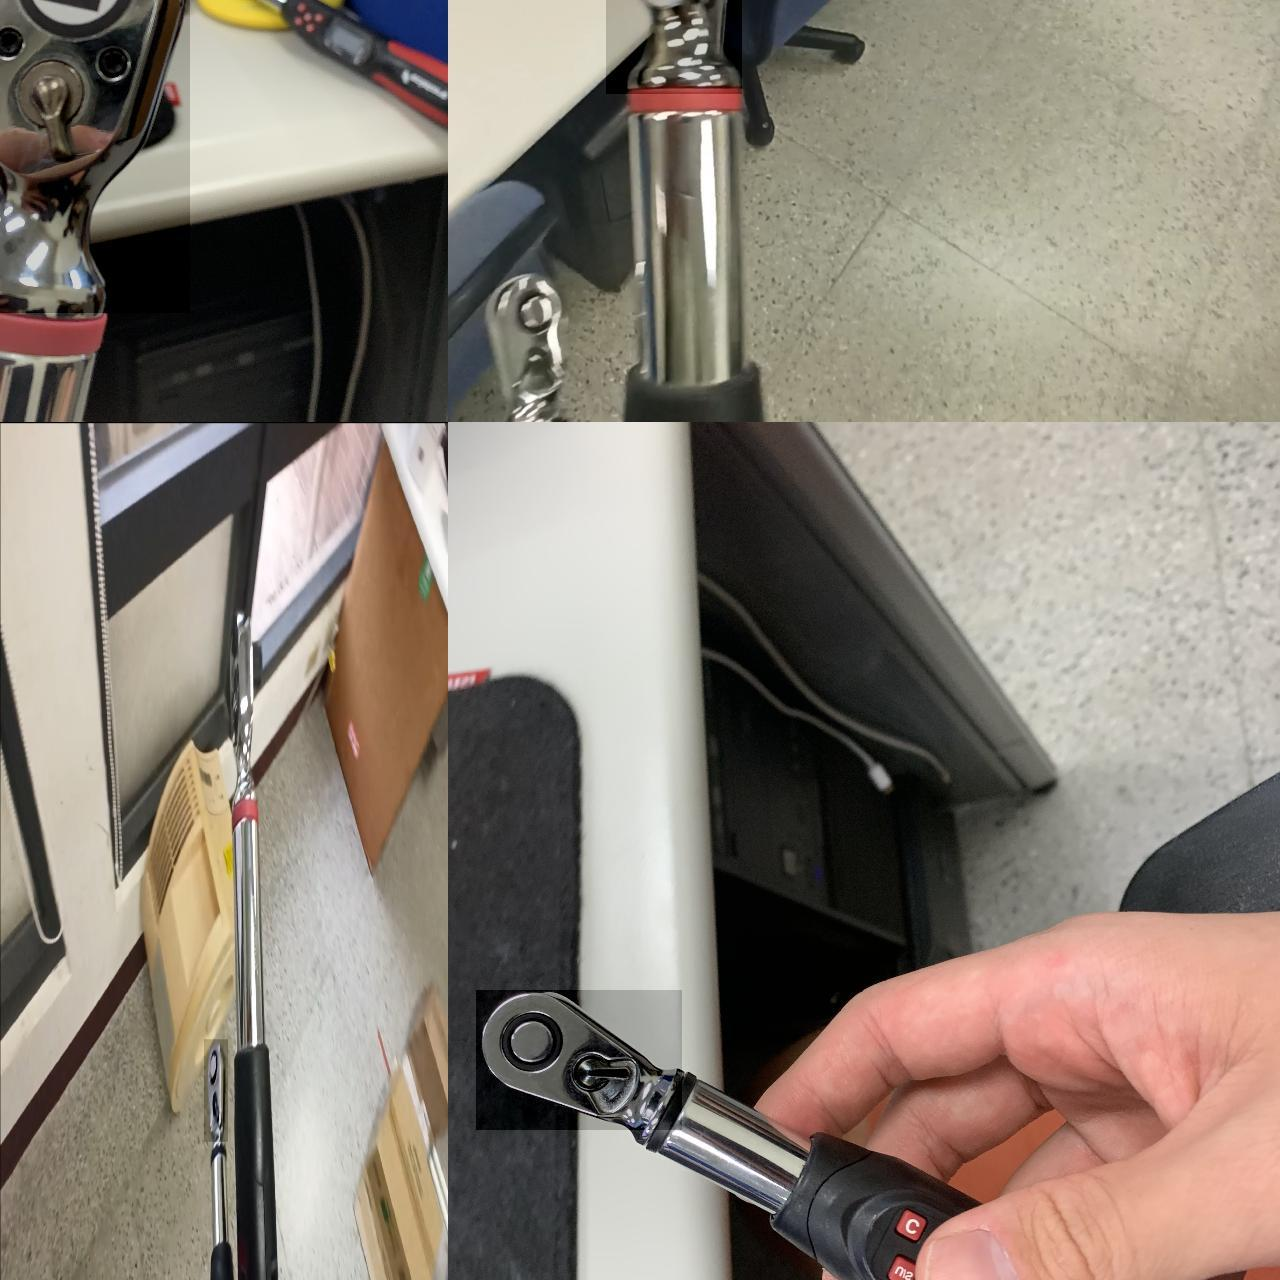Tool: (0, 0, 189, 312), (475, 989, 681, 1129), (605, 0, 741, 93), (225, 611, 261, 795), (204, 1039, 227, 1141)
